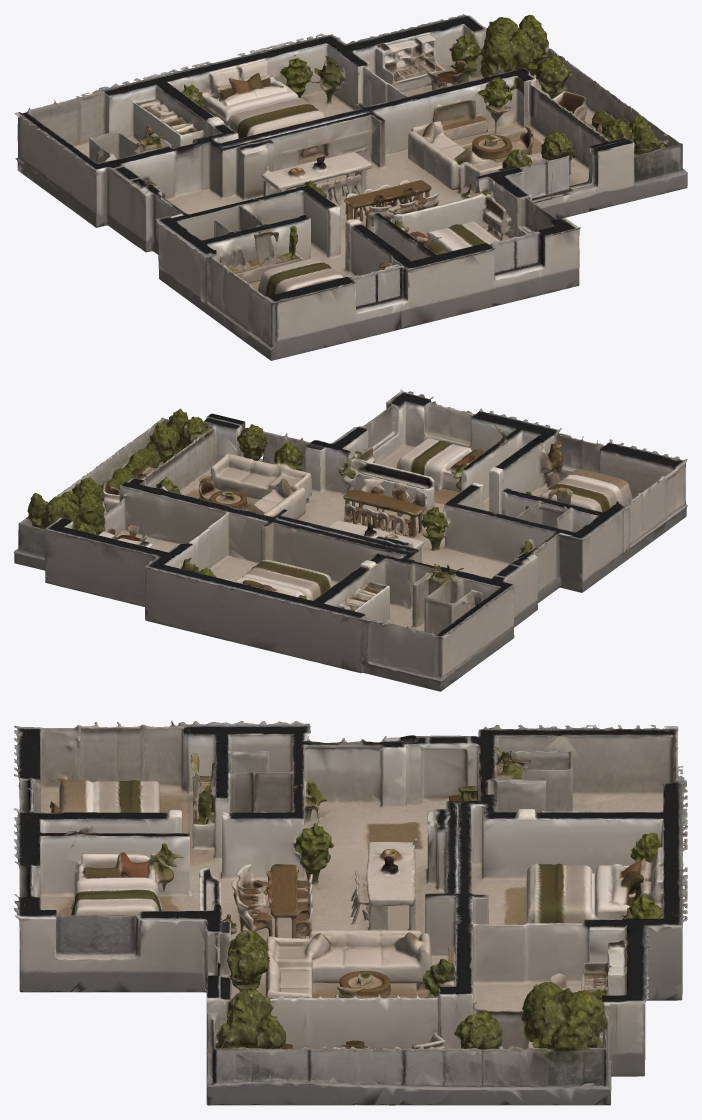
File: terrace-apartment.glb
3 renders of one model, top to bottom at view 1: azimuth 30°, elevation 25°; view 2: azimuth 150°, elevation 25°; view 3: azimuth 270°, elevation 25°, orthographic. The views are drawn at different scales.
Bounding box in the file's own units: 1.87 × 0.2574 × 1.73.
1 material, 1 textured.
